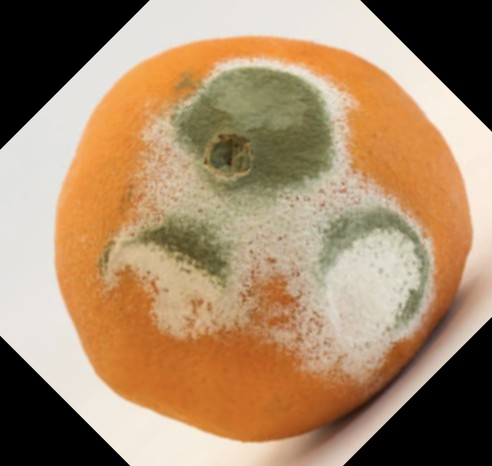rotten_orange: (54, 35, 474, 441)
